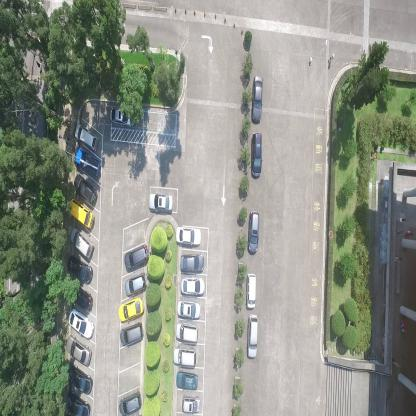car: (72, 147, 100, 180), (64, 336, 92, 368), (67, 307, 94, 339), (72, 174, 98, 207), (69, 227, 95, 259), (68, 199, 94, 231), (67, 365, 94, 394), (123, 242, 149, 272), (118, 295, 145, 322), (67, 256, 94, 283), (74, 123, 99, 152), (119, 320, 144, 348), (118, 388, 142, 415), (246, 209, 260, 254), (69, 284, 93, 310), (109, 104, 135, 128), (251, 74, 263, 125), (148, 192, 174, 215), (65, 392, 91, 415), (125, 269, 147, 296), (250, 131, 262, 179), (176, 224, 202, 246), (176, 298, 202, 320), (174, 322, 199, 344), (247, 312, 258, 359), (180, 252, 204, 272), (173, 346, 197, 366), (180, 276, 205, 294), (175, 370, 197, 390), (245, 271, 256, 309), (182, 394, 202, 414)
